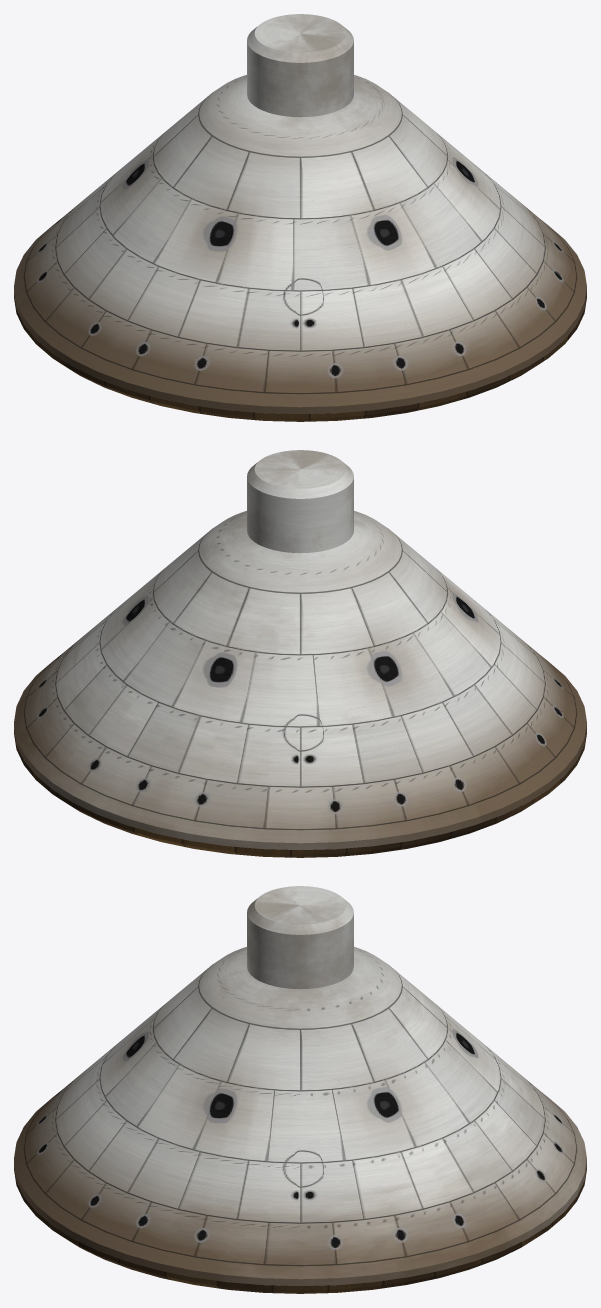
File: aeroshell.glb
3 views of the same model, one above another, from view 1: azimuth 30°, elevation 25°; view 2: azimuth 150°, elevation 25°; view 3: azimuth 270°, elevation 25° (orthographic).
Parts seen in each view (by area): view 1: Aeroshell_Backshell, Aeroshell_Heatshield; view 2: Aeroshell_Backshell, Aeroshell_Heatshield; view 3: Aeroshell_Backshell, Aeroshell_Heatshield.
Boxes of the visible parts, left/top/right/bottom form: Aeroshell_Backshell: left=14, top=14, right=586, bottom=413; Aeroshell_Heatshield: left=14, top=294, right=586, bottom=421; Aeroshell_Backshell: left=14, top=450, right=586, bottom=849; Aeroshell_Heatshield: left=14, top=730, right=586, bottom=857; Aeroshell_Backshell: left=14, top=886, right=586, bottom=1285; Aeroshell_Heatshield: left=14, top=1166, right=586, bottom=1293.
Size of the model in its own units: 7.42 by 4.95 by 7.42.
2 materials, 2 textured.
